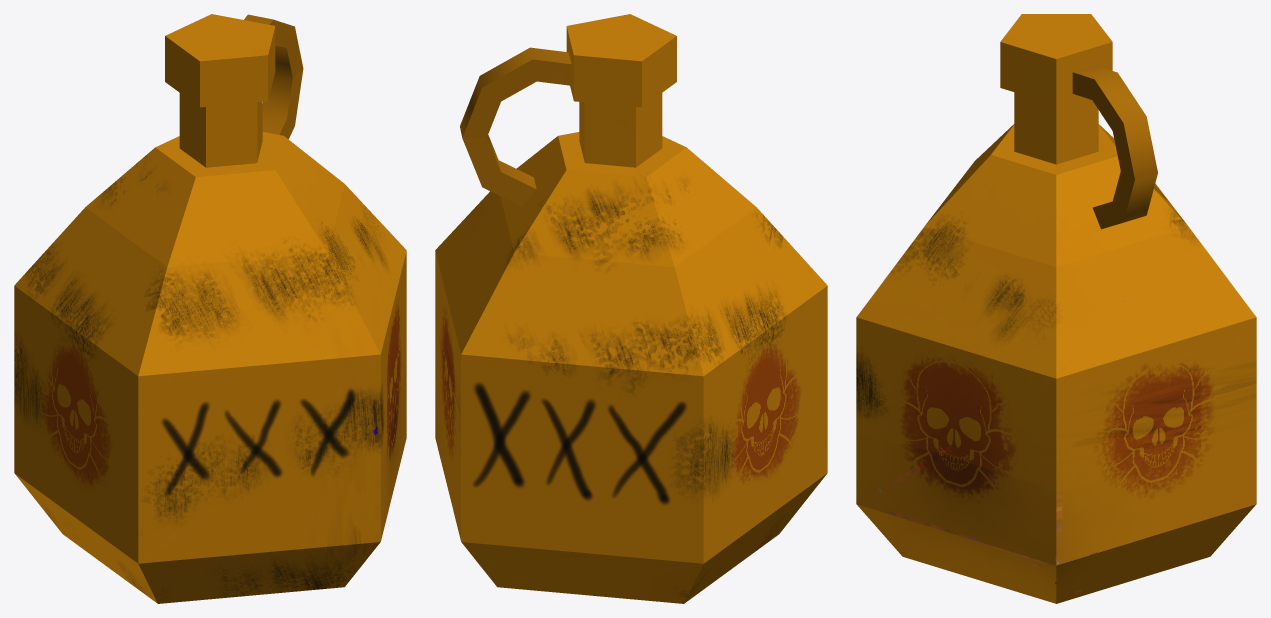
Rendered from JARRA.FBX.
The picture shows the model from 3 angles, left to right: view 1: azimuth 30°, elevation 25°; view 2: azimuth 150°, elevation 25°; view 3: azimuth 270°, elevation 25°; orthographic projection.
Parts seen in each view (by area): view 1: Cylinder001, Tube001; view 2: Cylinder001, Tube001; view 3: Cylinder001, Tube001.
Part boxes in pixels (x1,y1,x2,y2): Cylinder001: (14,14,406,603); Tube001: (244,14,303,139); Cylinder001: (435,14,827,603); Tube001: (460,47,571,206); Cylinder001: (856,14,1256,603); Tube001: (1072,65,1157,229).
Size of the model in its own units: 7.1 by 10.32 by 7.47.
